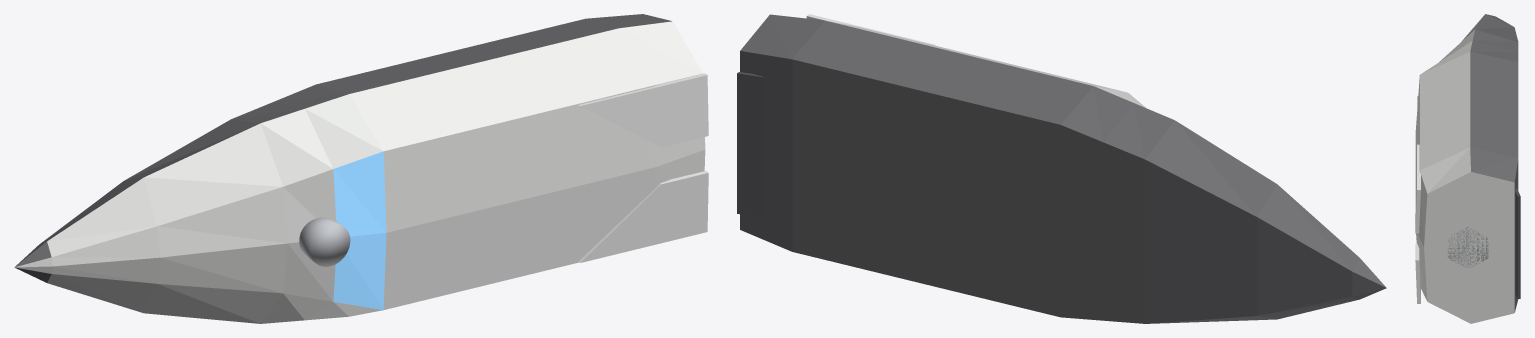
The model's file is wayfarer_b4s_rolled90_standard.glb.
3 renders of one model, left to right at view 1: azimuth 30°, elevation 25°; view 2: azimuth 150°, elevation 25°; view 3: azimuth 270°, elevation 25°, orthographic. The views are drawn at different scales.
Visible parts, largest first — view 1: hull, belly_tps, glazing, fin_stbd, fin_port, dorsal_hatch; view 2: belly_tps, body_flap, hull; view 3: hull, belly_tps, torch_nozzle, body_flap, fin_stbd, fin_port.
Boxes of the visible parts, x1,y1,x2,y2 form: hull: [14, 21, 705, 323]; belly_tps: [15, 14, 671, 282]; glazing: [333, 151, 386, 309]; fin_stbd: [579, 73, 708, 147]; fin_port: [578, 171, 708, 262]; dorsal_hatch: [299, 217, 350, 266]; belly_tps: [740, 14, 1386, 323]; body_flap: [737, 72, 765, 217]; hull: [827, 21, 1146, 108]; hull: [1415, 15, 1514, 323]; belly_tps: [1470, 14, 1518, 312]; torch_nozzle: [1448, 227, 1488, 267]; body_flap: [1515, 187, 1520, 298]; fin_stbd: [1415, 144, 1420, 233]; fin_port: [1415, 243, 1420, 303].
Size of the model in its own units: 12.8 by 4.26 by 2.51.
